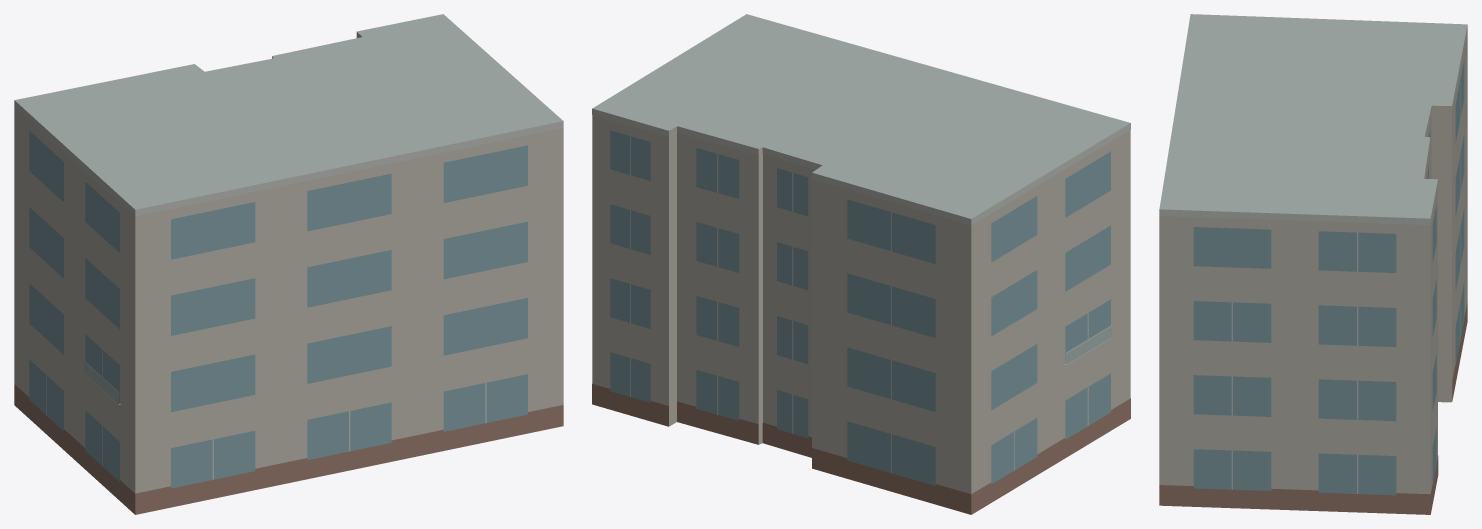
Rendered from survey-upis-32914844.glb.
3 renders of one model, left to right at view 1: azimuth 30°, elevation 25°; view 2: azimuth 150°, elevation 25°; view 3: azimuth 270°, elevation 25°, orthographic. The views are drawn at different scales.
Parts seen in each view (by area): view 1: survey-upis-32914844.tmp; view 2: survey-upis-32914844.tmp; view 3: survey-upis-32914844.tmp.
Boxes of the visible parts, x1,y1,x2,y2 form: survey-upis-32914844.tmp: (14,14,563,514); survey-upis-32914844.tmp: (592,14,1130,514); survey-upis-32914844.tmp: (1159,14,1467,514).
Bounding box in the file's own units: 16.3 × 11 × 10.38.
